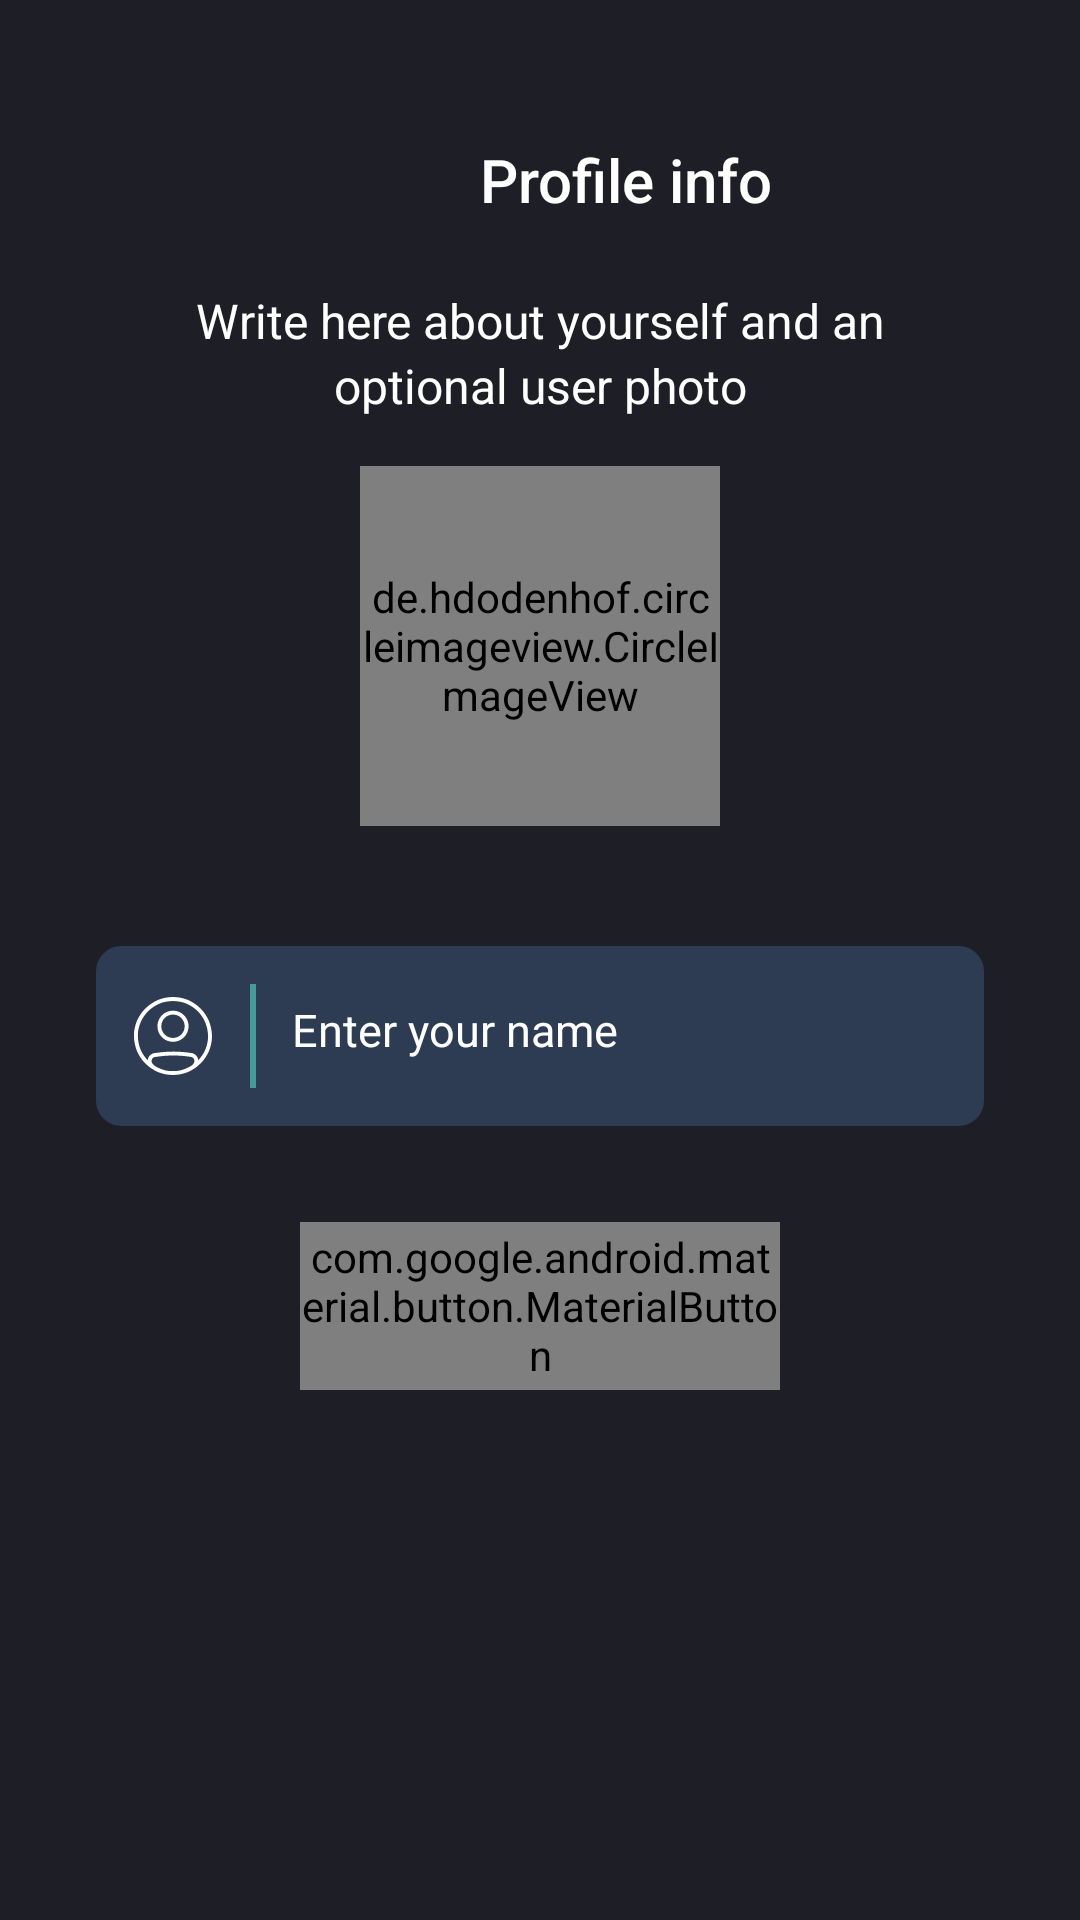

Icon click points for this 1080px x 1920px phone screenshot, format (x=x, y=y):
profile: (x=173, y=1036)
